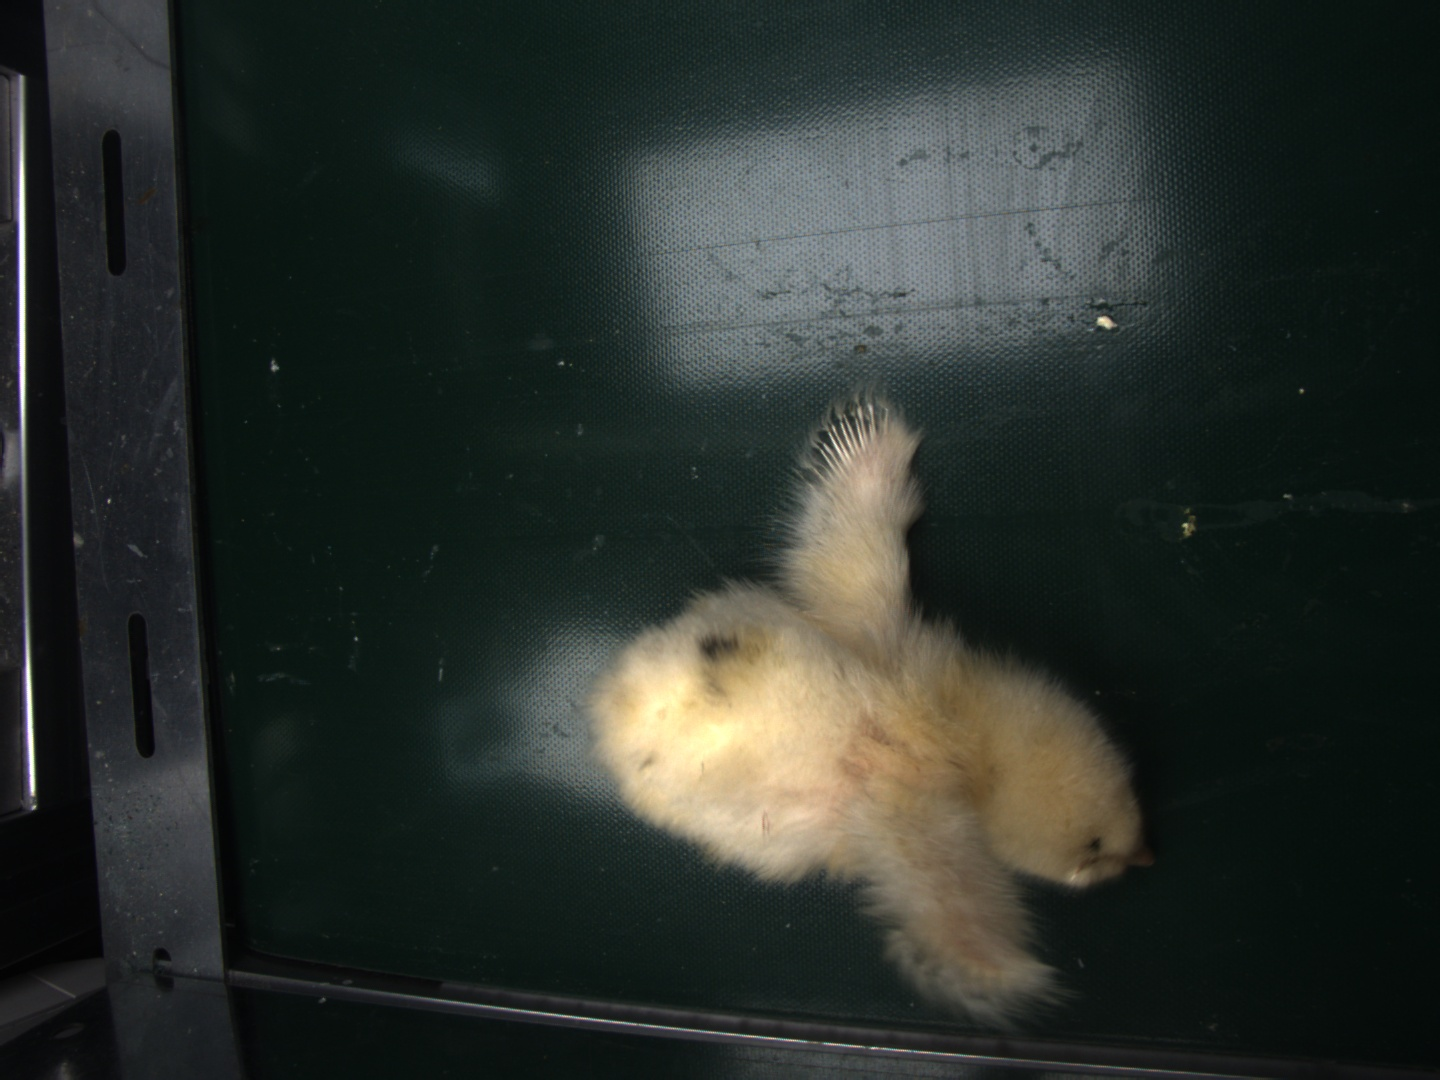male: (808, 396, 891, 474)
